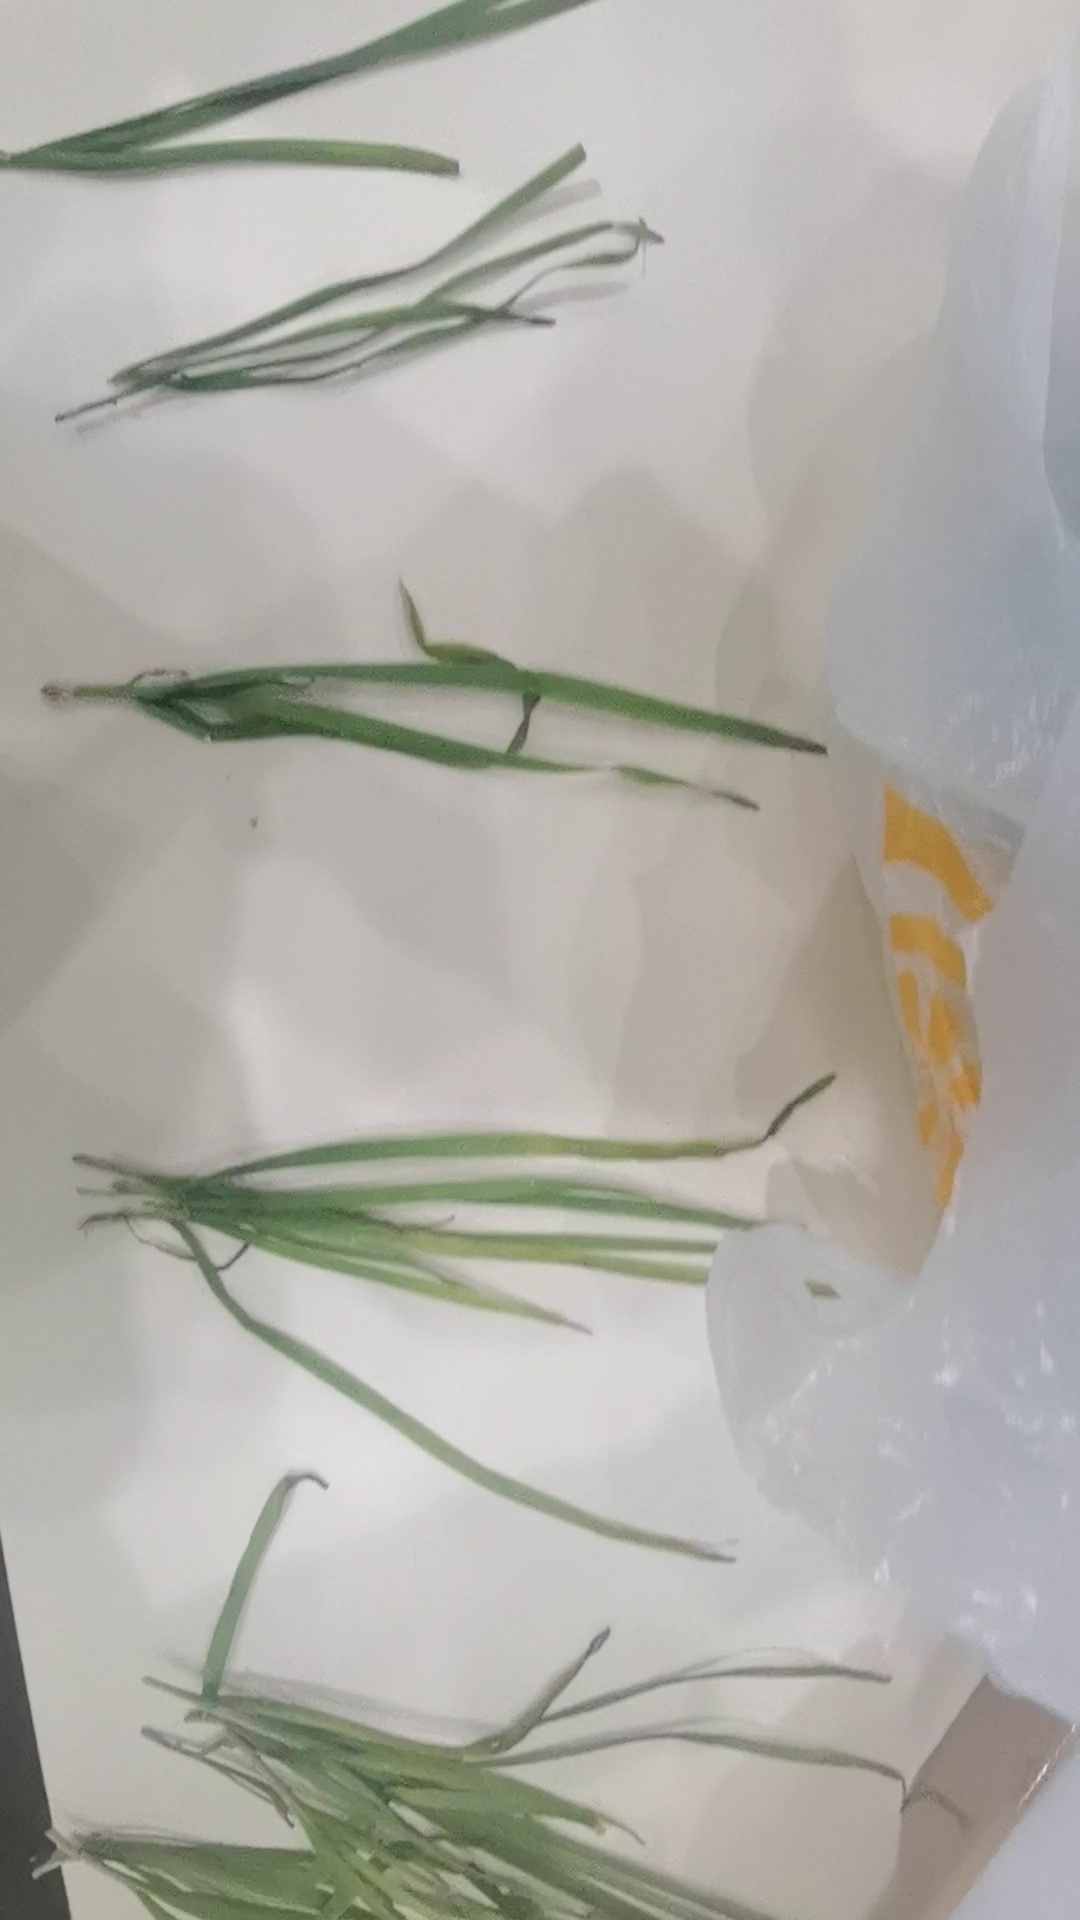chives: (49, 1043, 969, 1592), (16, 1472, 981, 1920), (20, 589, 862, 822), (22, 185, 716, 421), (3, 4, 657, 189)
